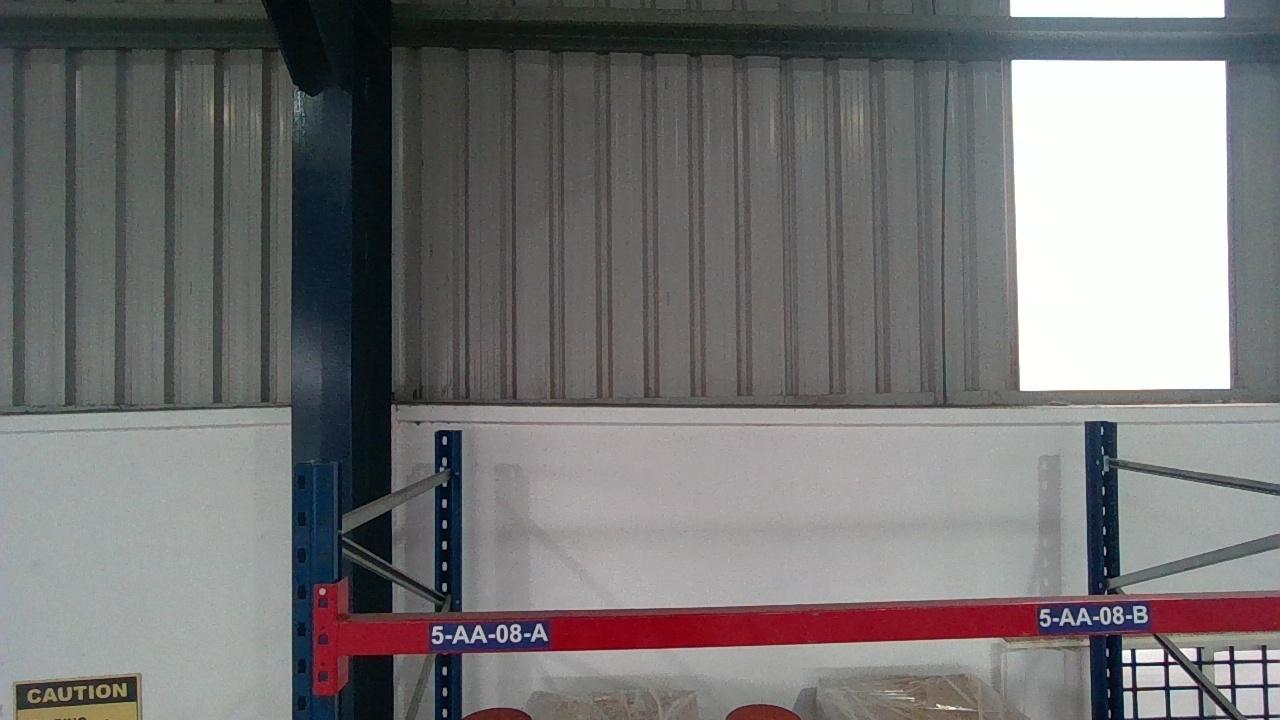h_rack: (336, 612, 1280, 639)
